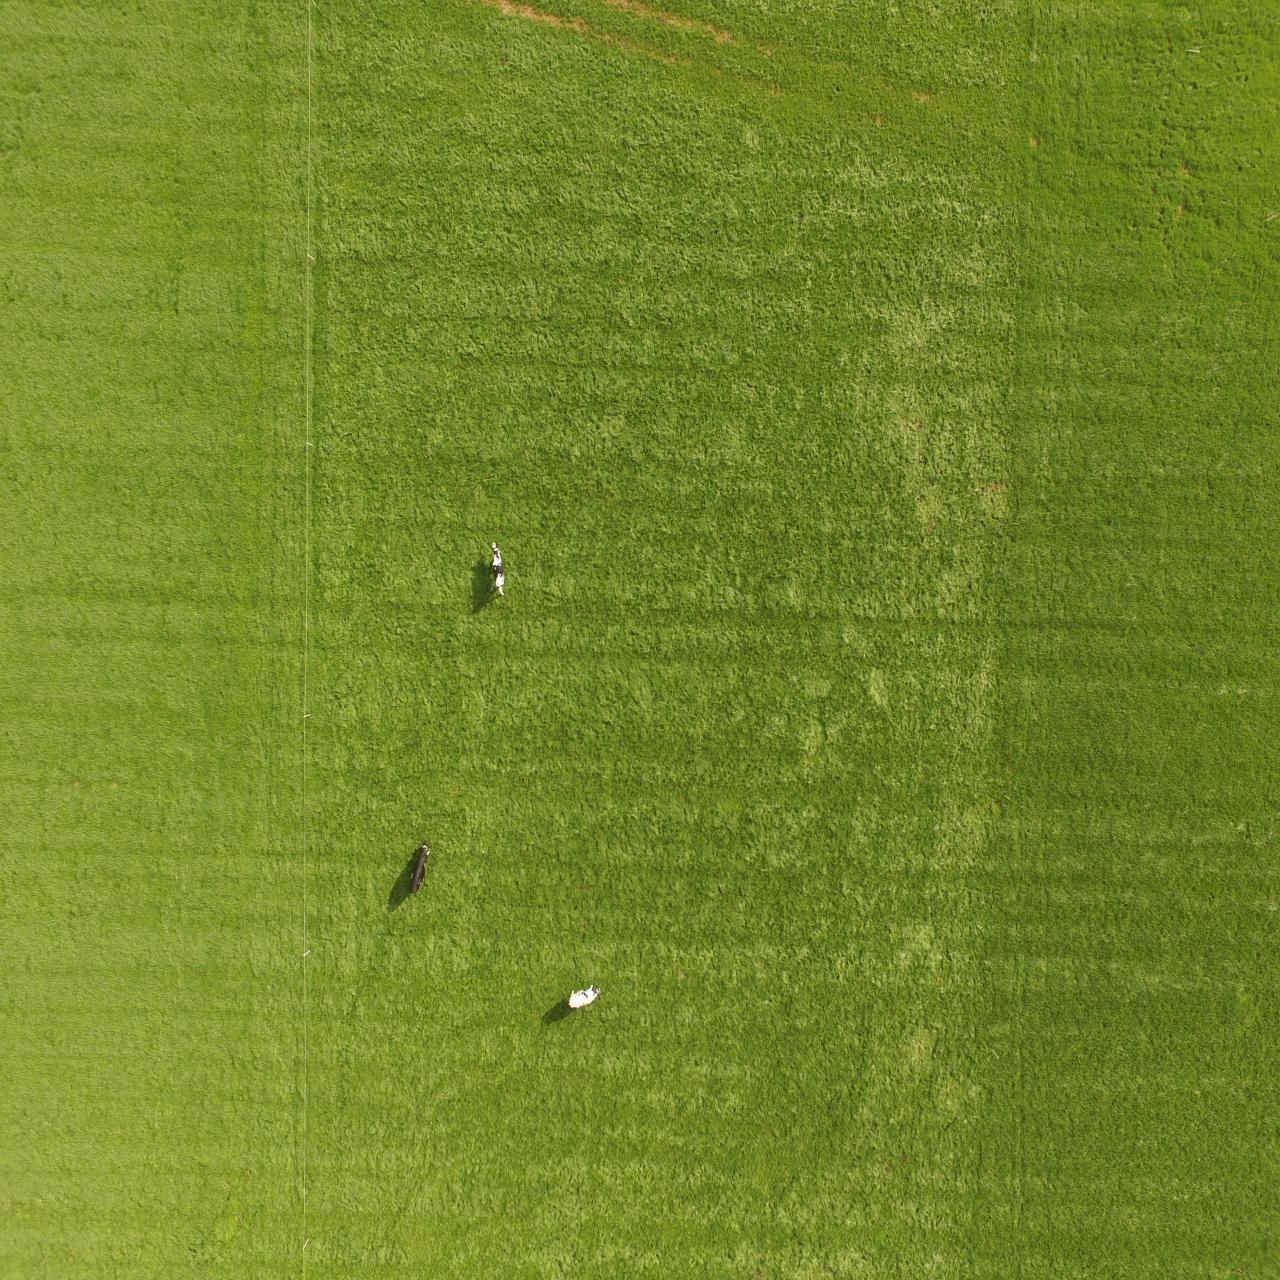cow: (485, 536, 510, 600), (407, 835, 431, 897), (567, 979, 604, 1009)
